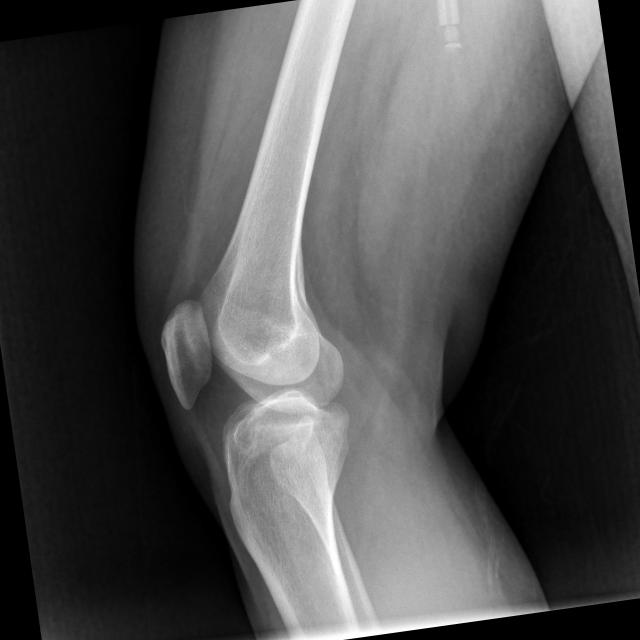Knee: (157, 274, 366, 514)
